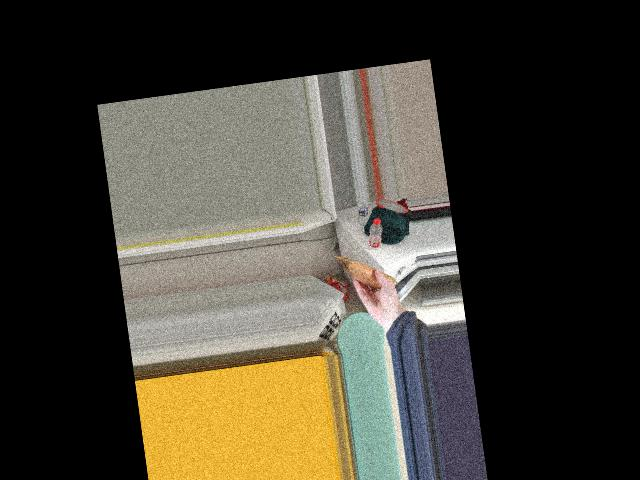sweet_potato: (351, 256, 387, 291)
